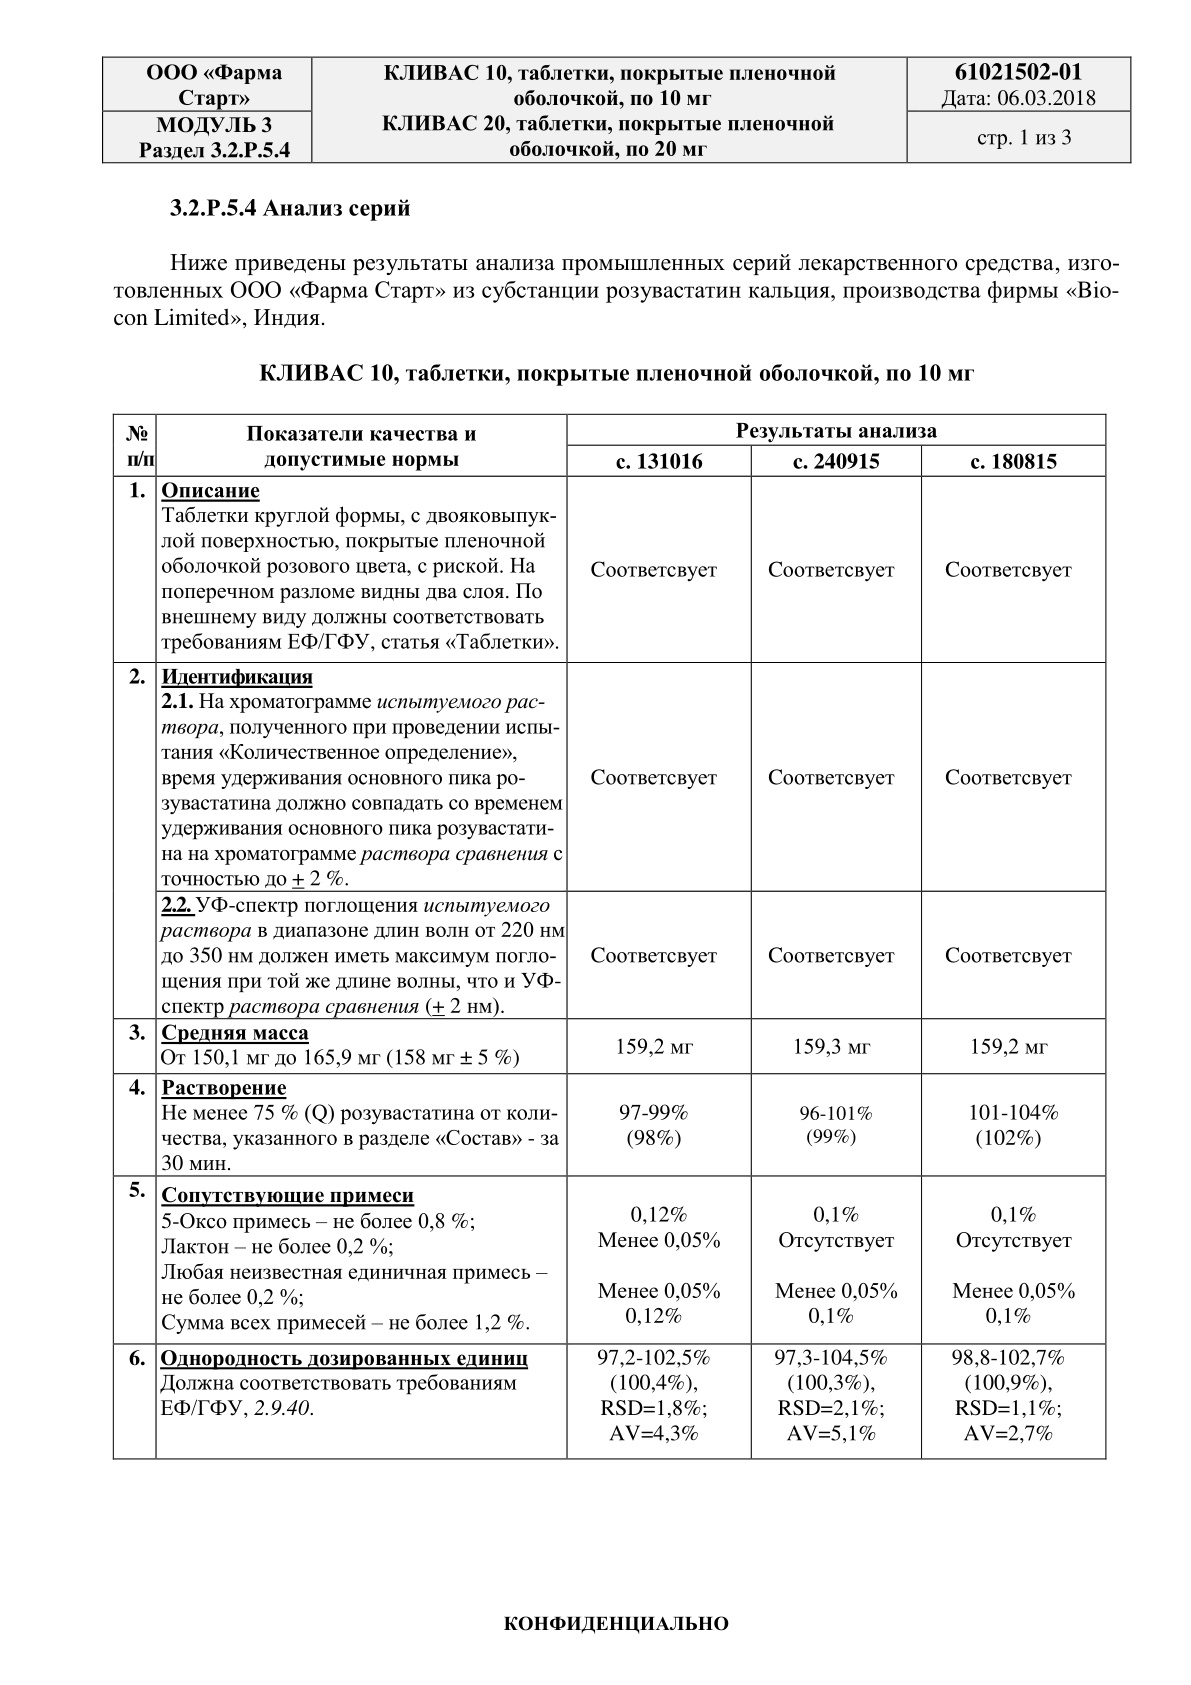merged_cells: (112, 413, 1107, 1462), (101, 55, 1132, 165)
